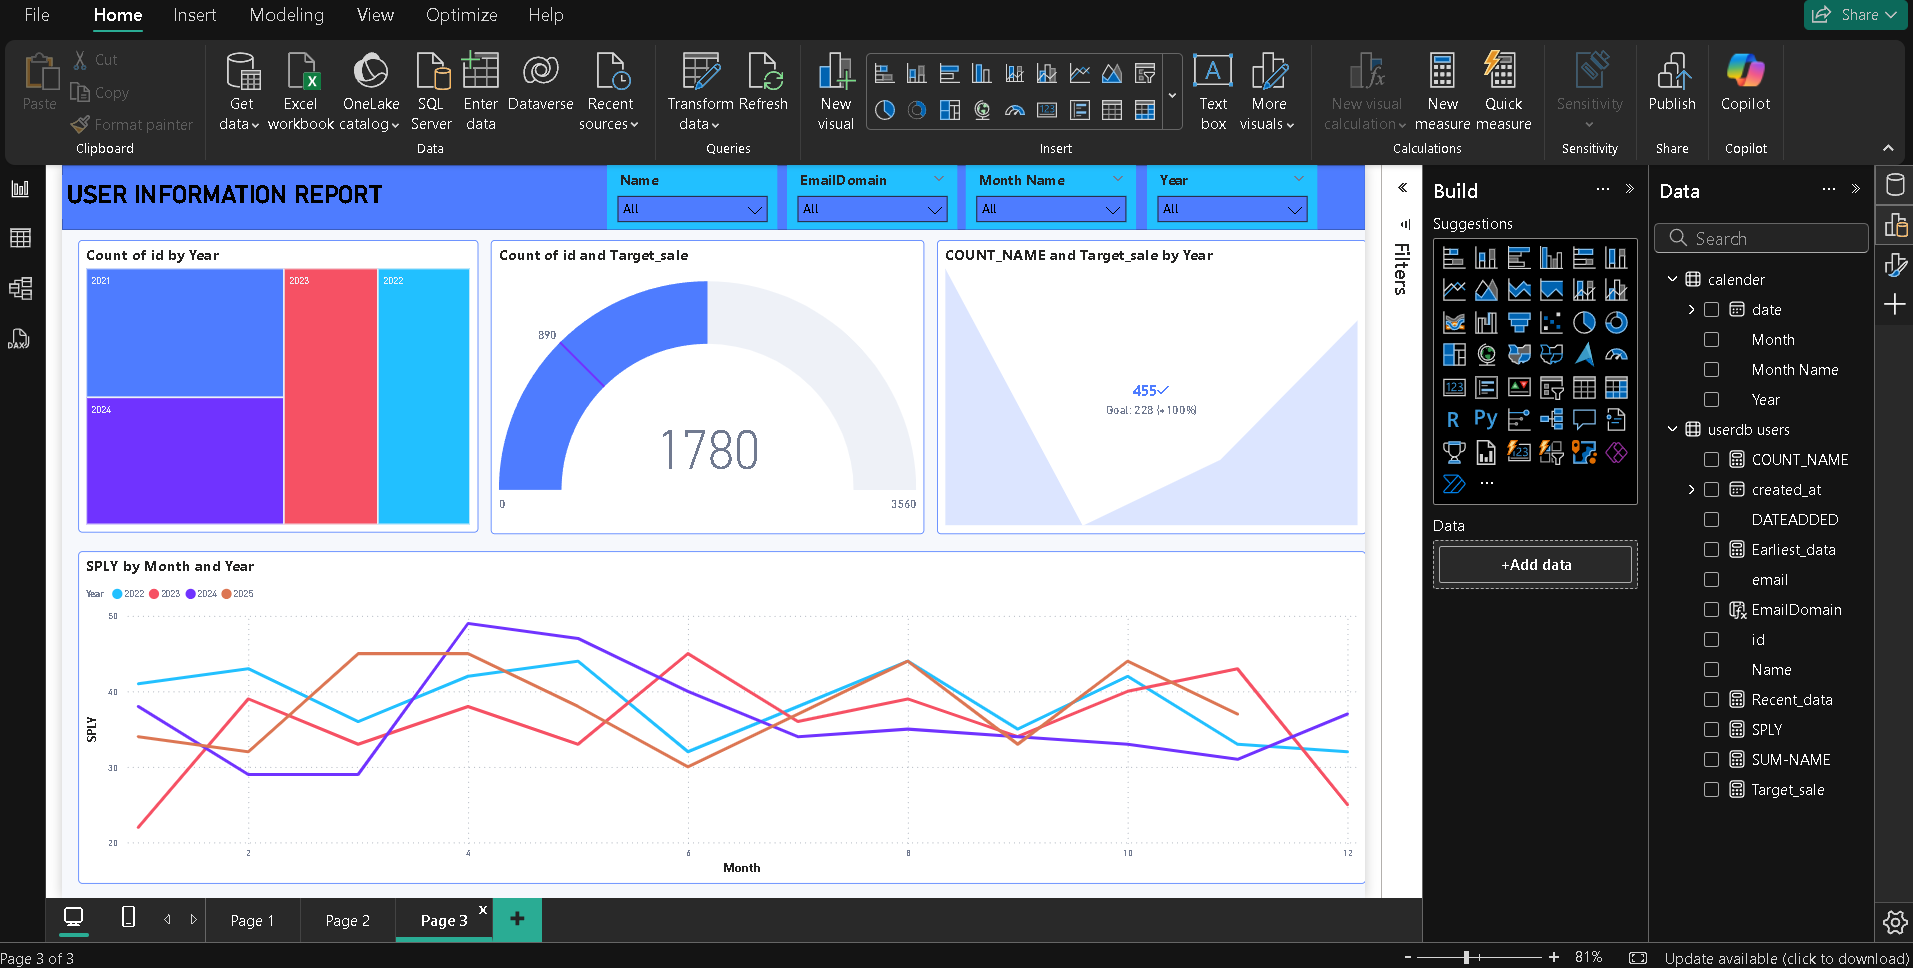

The page's visual inventory and layout, read from the dashboard file:
{"tool":"powerbi","page":{"name":"Page 3","canvas":[1280,720],"ordinal":2},"visuals":[{"type":"textbox","box":[0,0,365,43.8],"z":0},{"type":"shape","box":[0,0,1279.8,63.8],"z":1000},{"type":"textbox","box":[0,9.8,364.4,42.9],"z":2000},{"type":"slicer","fields":{"Values":["userdb users.name"]},"box":[535.3,0,167.4,63.5],"z":3000},{"type":"slicer","fields":{"Values":["calender.Year"]},"box":[1064.8,0,167.4,63.5],"z":4000},{"type":"slicer","fields":{"Values":["calender.Month Name"]},"box":[887.3,0,167.4,63.5],"z":5000},{"type":"slicer","fields":{"Values":["userdb users.EMAILDOMAIN"]},"box":[711.3,0,167.4,63.5],"z":6000},{"type":"lineChart","fields":{"Y":["userdb users.SPLY"],"Category":["calender.Month"],"Series":["calender.Year"]},"box":[15.9,379.4,1263.9,326.1],"z":6001},{"type":"kpi","fields":{"Goal":["userdb users.Target_sale"],"TrendLine":["calender.Year"],"Indicator":["userdb users.COUNT_NAME"]},"box":[858.4,73.6,421.3,288.6],"z":6002},{"type":"treemap","fields":{"Values":["userdb users.id"],"Group":["calender.Year"]},"box":[15.9,73.6,392.4,287.1],"z":6003},{"type":"gauge","fields":{"Y":["userdb users.id"],"TargetValue":["userdb users.Target_sale"]},"box":[421.3,73.6,425.6,288.6],"z":6004}]}

Visuals, with their boxes on the page's 1280x720 design canvas (x1, y1, x2, y2). These are canvas units, not pixel positions in the 1913x968 screenshot, which may show the page scaled, cropped or inside an application window:
textbox: locate(0, 0, 365, 44)
shape: locate(0, 0, 1280, 64)
textbox: locate(0, 10, 364, 53)
slicer - userdb users.name: locate(535, 0, 703, 64)
slicer - calender.Year: locate(1065, 0, 1232, 64)
slicer - calender.Month Name: locate(887, 0, 1055, 64)
slicer - userdb users.EMAILDOMAIN: locate(711, 0, 879, 64)
lineChart - userdb users.SPLY x calender.Month: locate(16, 379, 1280, 706)
kpi - userdb users.Target_sale x calender.Year: locate(858, 74, 1280, 362)
treemap - userdb users.id x calender.Year: locate(16, 74, 408, 361)
gauge - userdb users.id x userdb users.Target_sale: locate(421, 74, 847, 362)
